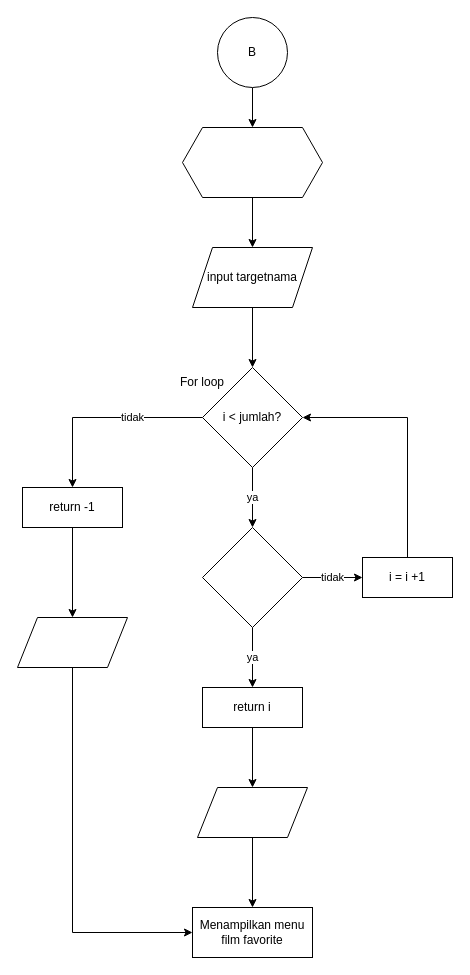
This 470x975 diagram has some shape labels left out. Each missing label, with the centre of its shape:
Nama film ditemukan: the point at 252,812
Nama film tidak ditemukan: the point at 72,642
nama[], jumlah, targetnama, i=0: the point at 252,162
nama[i] == targetnama: the point at 252,577
